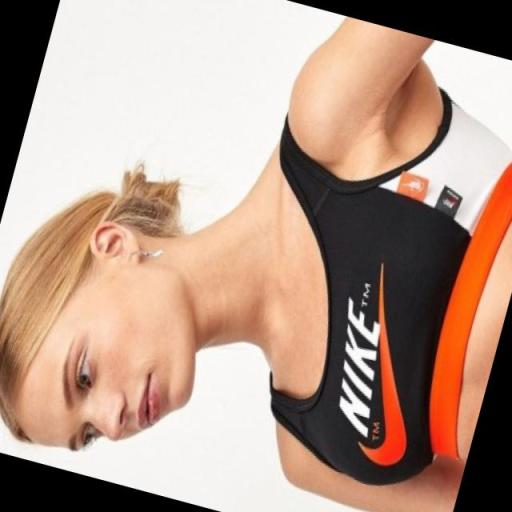Nike: (338, 282, 448, 473), (312, 293, 402, 440)
